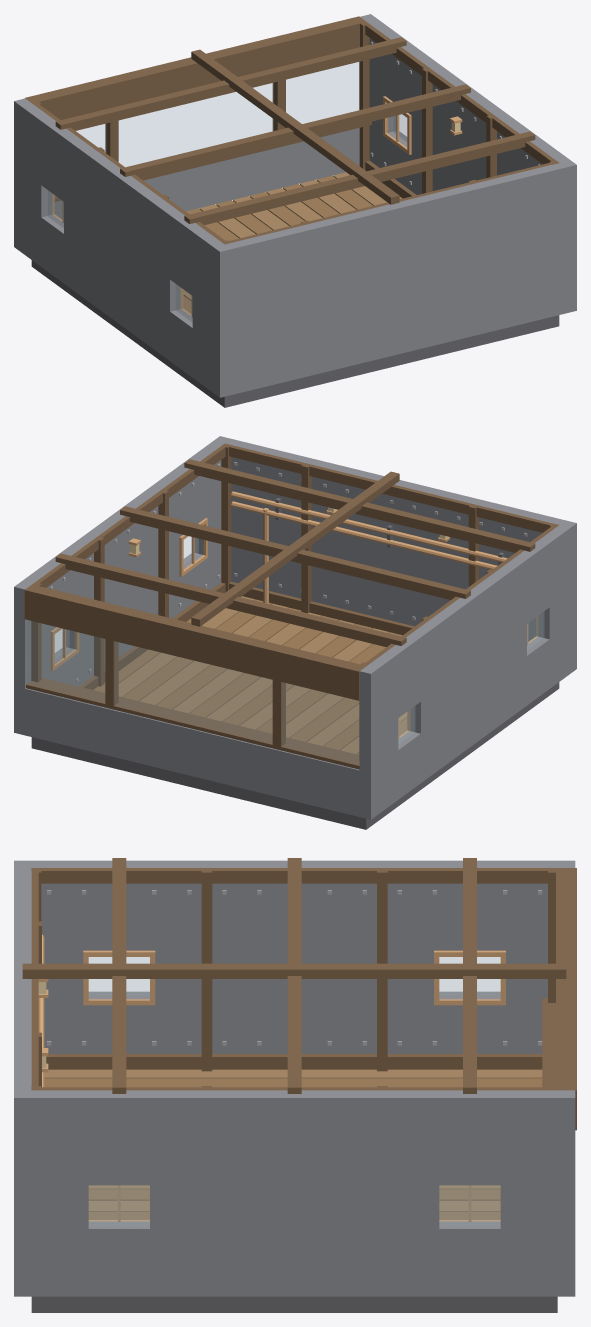
The model's file is cockpit.glb.
3 renders of one model, top to bottom at view 1: azimuth 30°, elevation 25°; view 2: azimuth 150°, elevation 25°; view 3: azimuth 270°, elevation 25°, orthographic. The views are drawn at different scales.
Parts seen in each view (by area): view 1: Cockpit; view 2: Cockpit; view 3: Cockpit.
Boxes of the visible parts, bbox=[...] form: Cockpit: bbox=[14, 14, 576, 407]; Cockpit: bbox=[14, 436, 576, 829]; Cockpit: bbox=[14, 858, 576, 1312].
Size of the model in its own units: 6.4 by 2.96 by 6.42.
